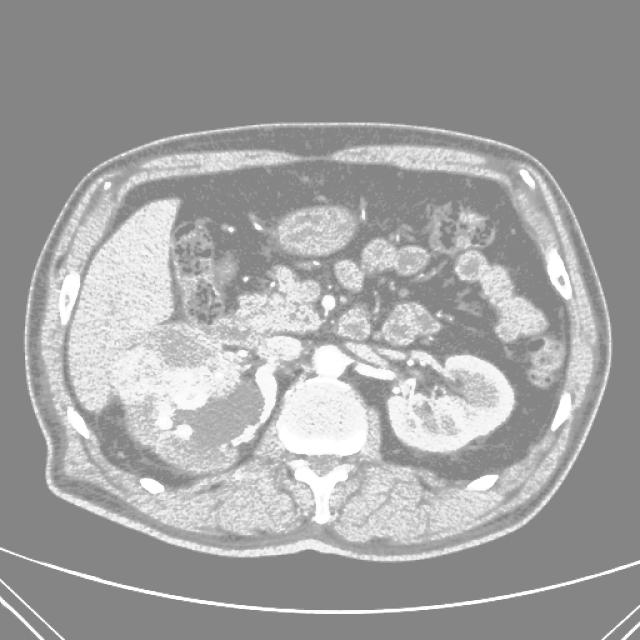TUMOR: (98, 291, 558, 528)
